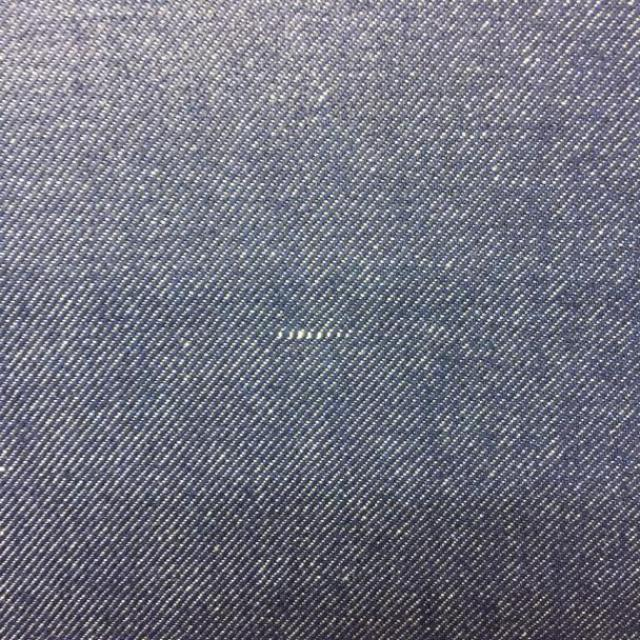Knot: (277, 329, 352, 341)
